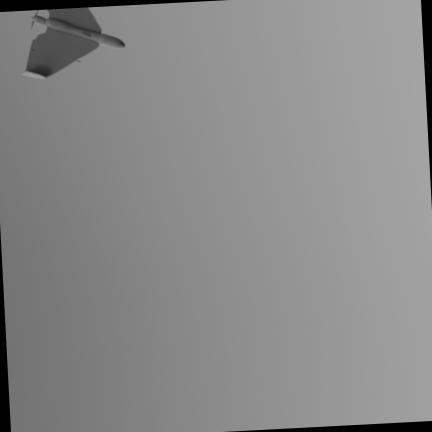Shahed: (24, 6, 124, 78)
